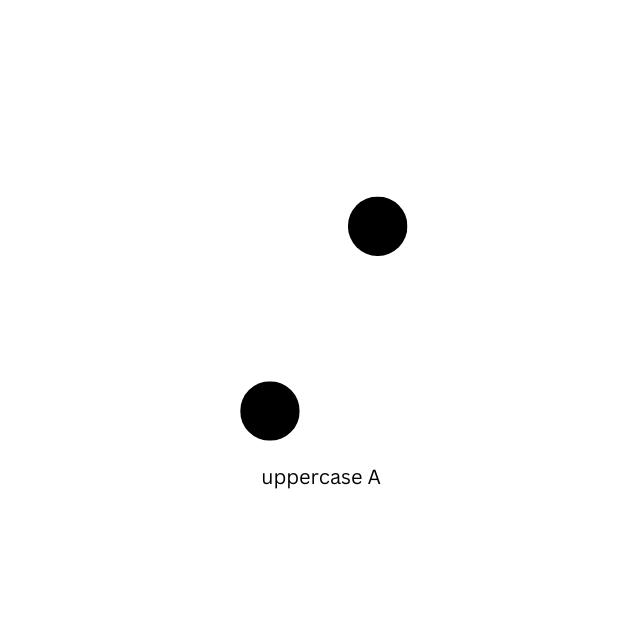capital_sign: (145, 196, 301, 440)
letter_A: (347, 195, 503, 439)
